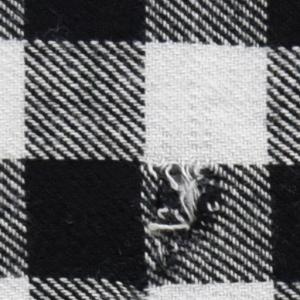Damage: (142, 153, 231, 282)
